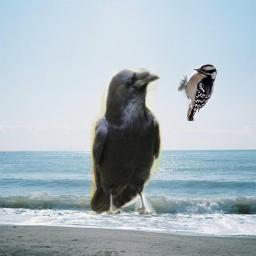Crow: (90, 68, 162, 215)
Woodpecker: (178, 64, 217, 121)
